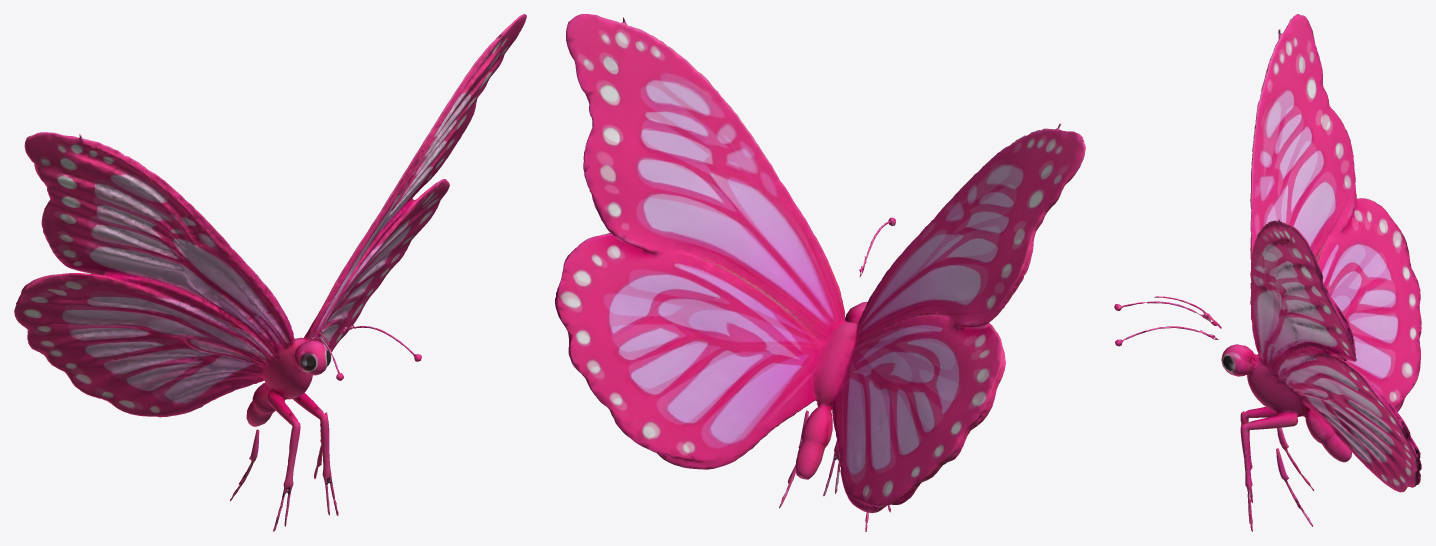
The model's file is refined_019aad9d-5e7c-7a25-84f4-4ac3124c91ad.fbx.
3 renders of one model, left to right at view 1: azimuth 30°, elevation 25°; view 2: azimuth 150°, elevation 25°; view 3: azimuth 270°, elevation 25°, orthographic. The views are drawn at different scales.
Visible parts, largest first — view 1: Mesh1.0; view 2: Mesh1.0; view 3: Mesh1.0.
Boxes of the visible parts, bbox=[...] form: Mesh1.0: bbox=[14, 14, 526, 531]; Mesh1.0: bbox=[555, 14, 1085, 531]; Mesh1.0: bbox=[1114, 14, 1421, 531].
Size of the model in its own units: 191 by 158 by 111.
1 material, 1 textured.
